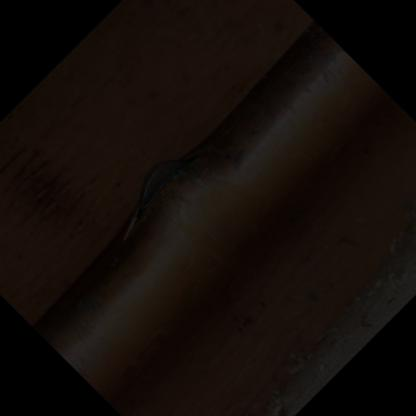burst: (116, 154, 218, 237)
